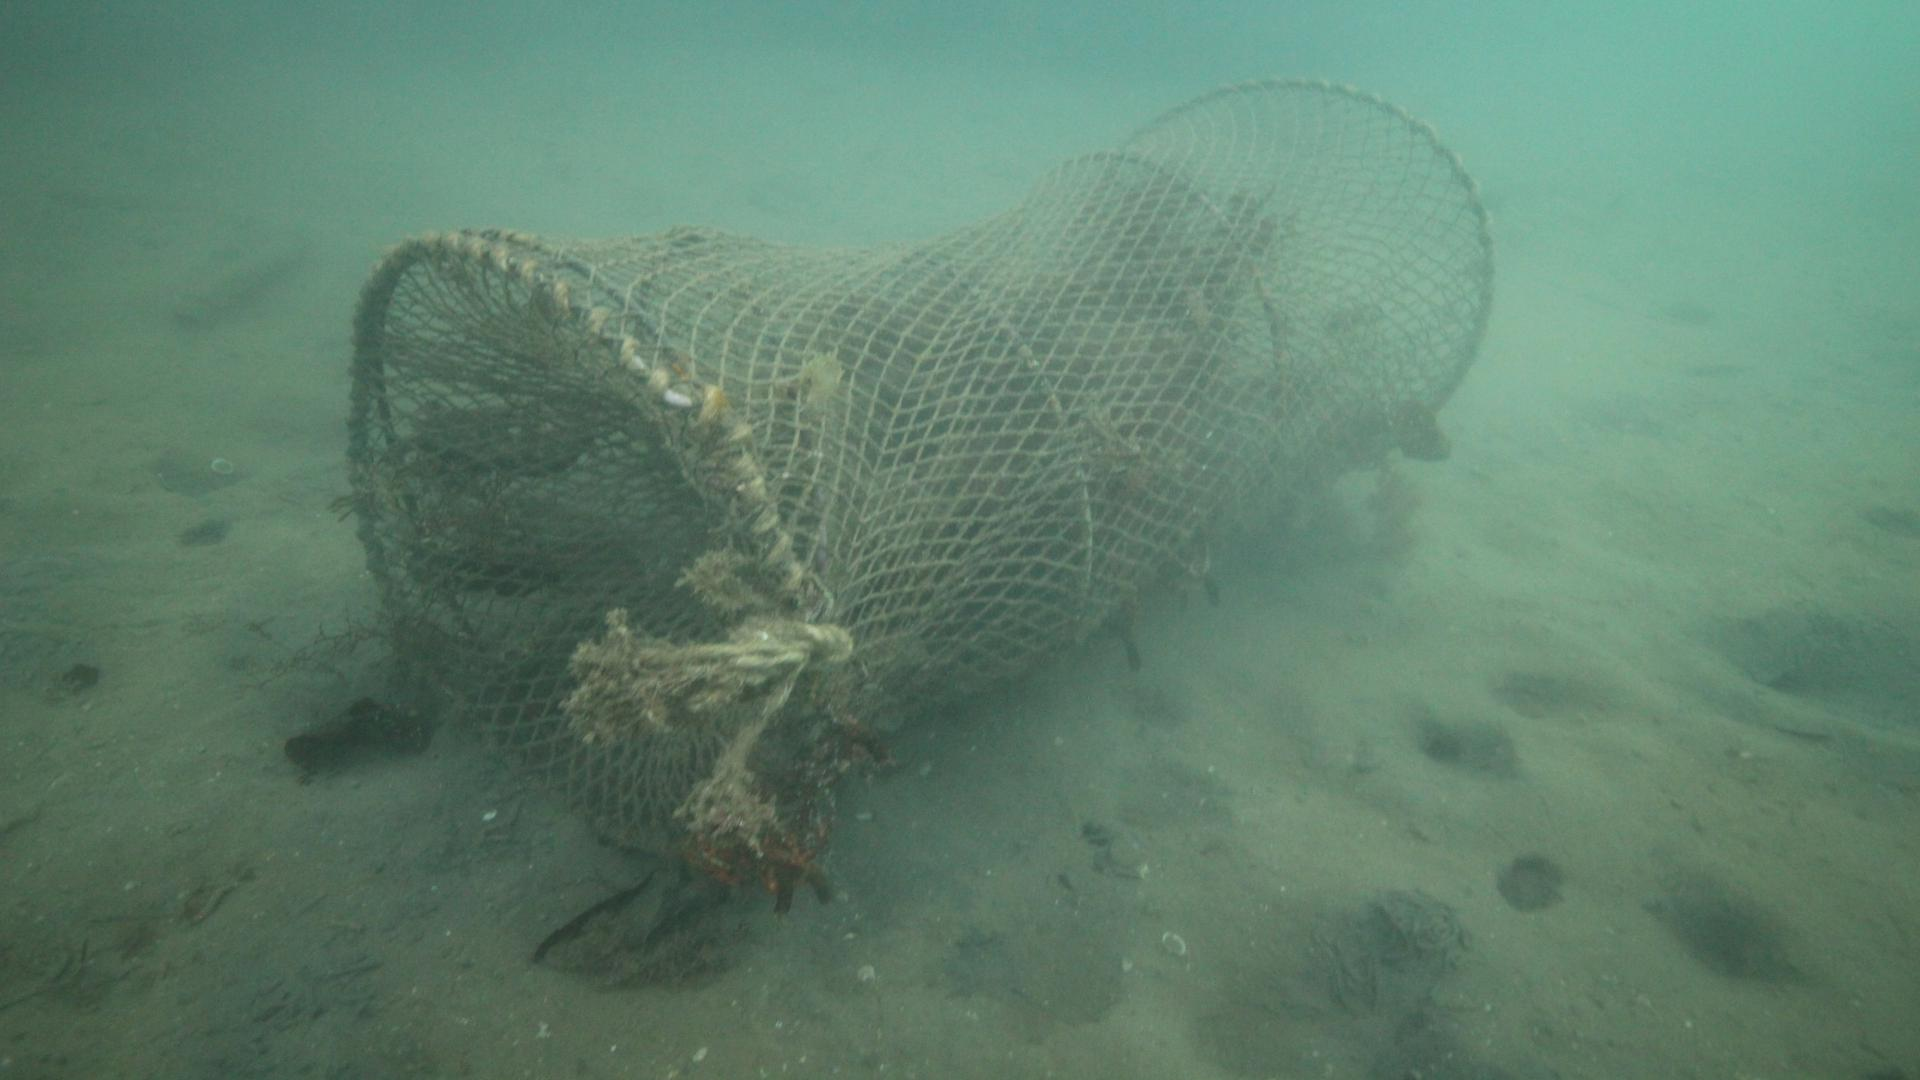spring fish trap: (343, 73, 1495, 858)
